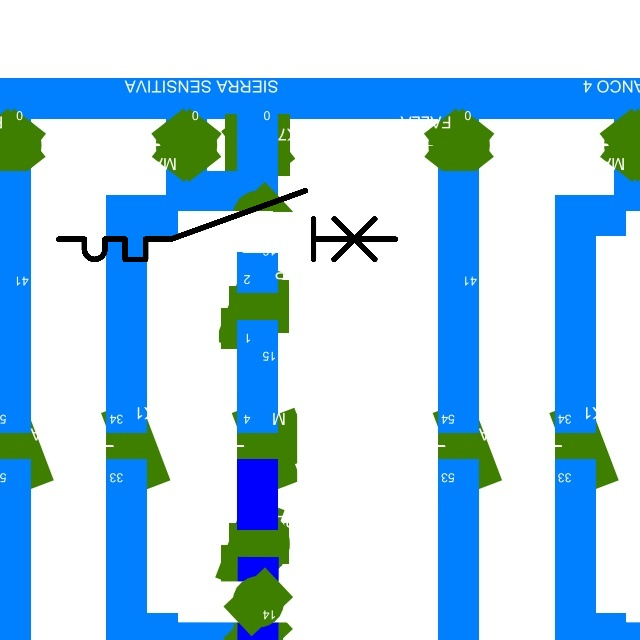interruptor_termomagnetico: (50, 182, 403, 268)
